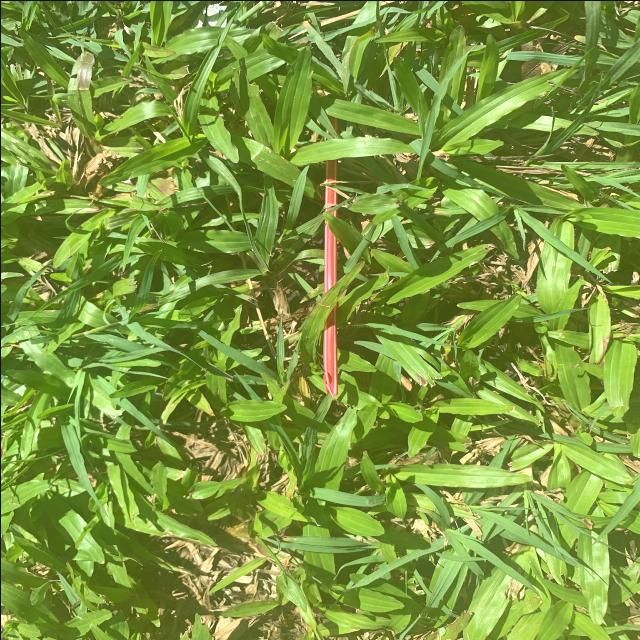Plastic straw: (322, 114, 338, 395)
